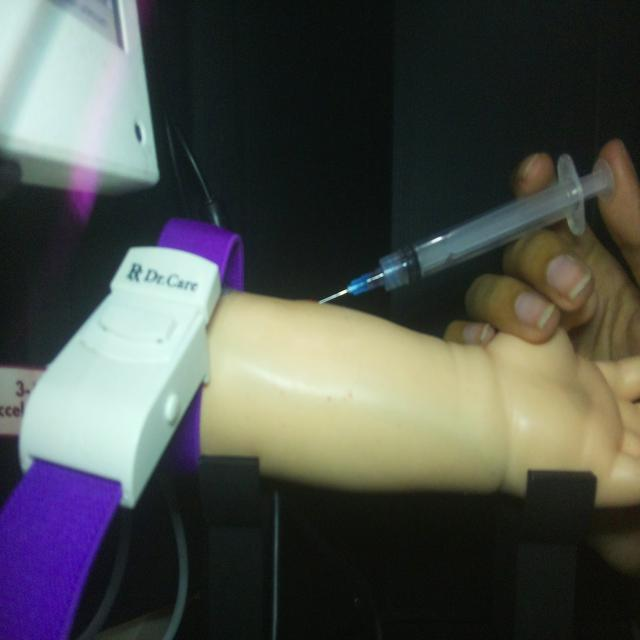16 degrees: (317, 150, 616, 307)
